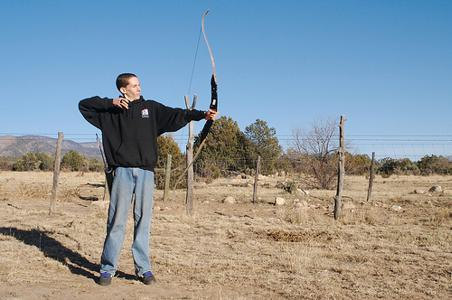person: (77, 71, 219, 283)
